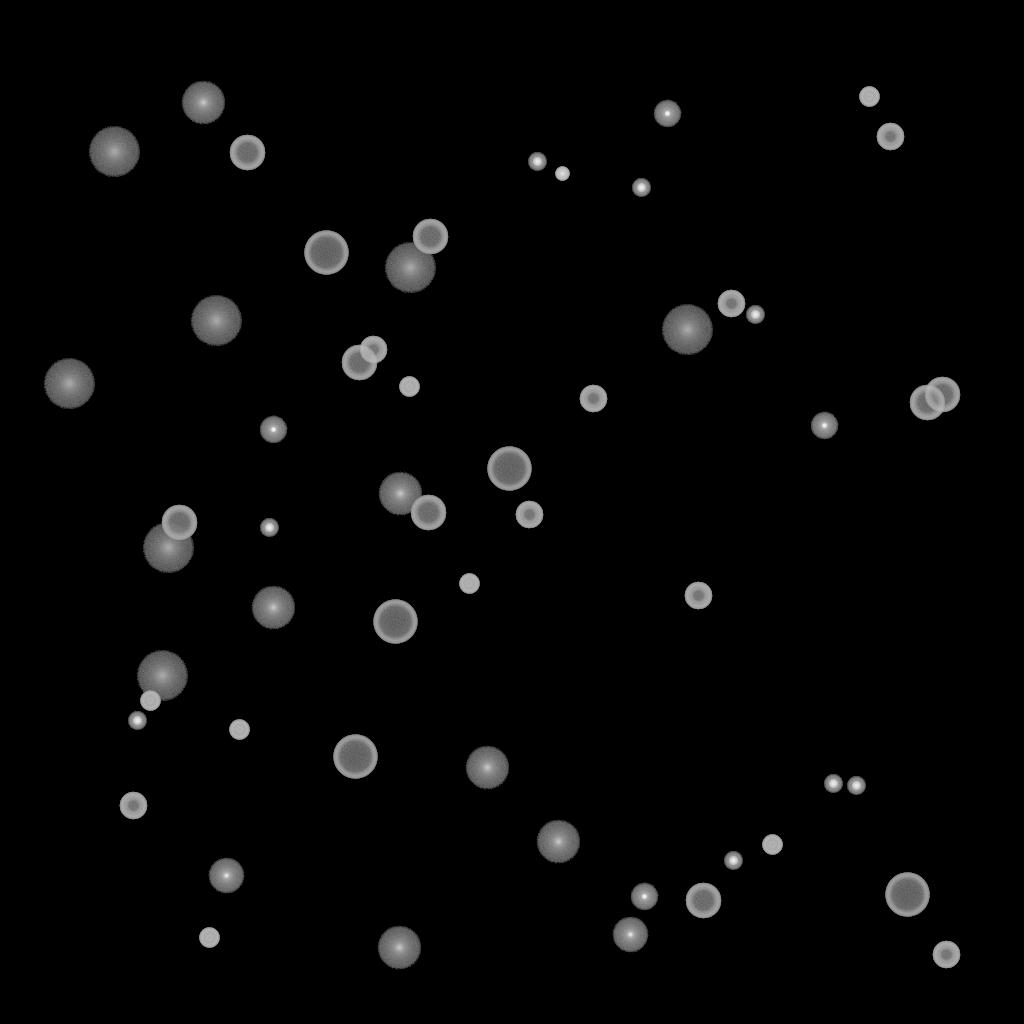depth:-10: (630, 883, 658, 911), (810, 412, 838, 440), (653, 100, 681, 128), (259, 416, 287, 444)
depth:-20: (746, 306, 764, 324), (632, 179, 650, 197), (724, 852, 742, 870), (128, 712, 146, 730), (260, 519, 278, 537), (847, 777, 865, 795), (528, 153, 546, 171), (824, 775, 842, 793)
depth:-30: (555, 167, 569, 181)
depth:-40: (459, 574, 479, 594), (140, 691, 160, 711), (399, 377, 419, 397), (229, 720, 249, 740), (199, 928, 219, 948), (762, 835, 782, 855), (859, 87, 879, 107)
depth:-50: (717, 290, 745, 318), (932, 941, 960, 969), (515, 501, 543, 529), (684, 582, 712, 610), (579, 385, 607, 413), (876, 123, 904, 151), (119, 792, 147, 820), (359, 336, 387, 364)
depth:-60: (924, 377, 960, 413), (685, 883, 721, 919), (412, 219, 448, 255), (341, 345, 377, 381), (909, 385, 945, 421), (229, 135, 265, 171), (161, 505, 197, 541), (410, 495, 446, 531)
depth:-70: (885, 873, 929, 917), (487, 447, 531, 491), (373, 600, 417, 644), (333, 735, 377, 779), (304, 231, 348, 275)
depth:0: (208, 858, 244, 894), (612, 917, 648, 953)
depth:10: (536, 820, 580, 864), (465, 746, 509, 790), (251, 586, 295, 630), (181, 81, 225, 125), (377, 926, 421, 970), (378, 472, 422, 516)
depth:20: (661, 305, 713, 355), (384, 243, 436, 293), (88, 127, 140, 177), (142, 523, 194, 573), (43, 359, 95, 409), (136, 651, 188, 701), (190, 296, 242, 346)
